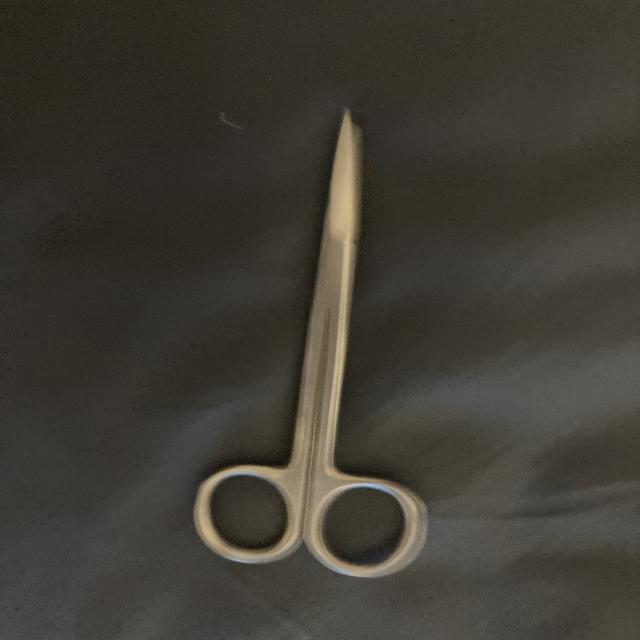scissor: (183, 102, 448, 586)
